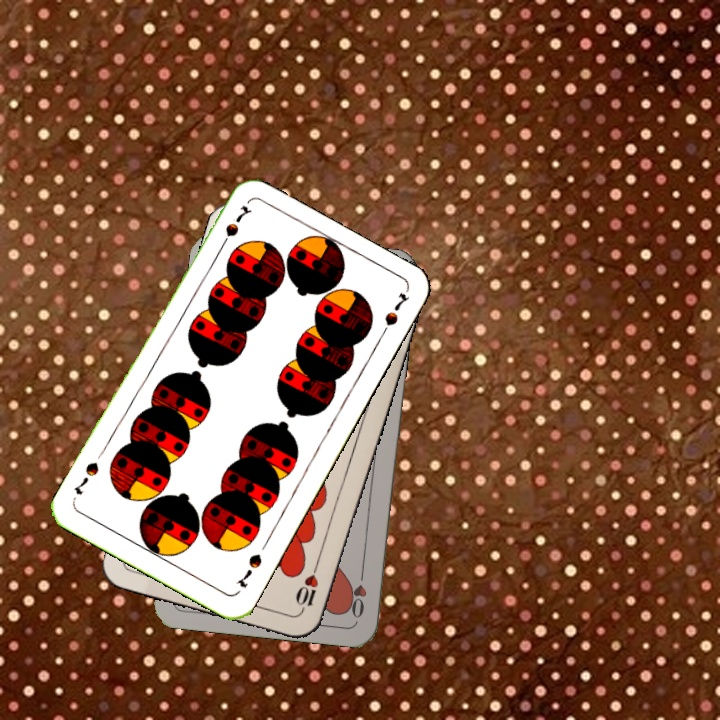H10: (292, 559, 321, 617)
HO: (346, 562, 370, 621)
S7: (215, 201, 253, 254), (232, 549, 265, 591)
